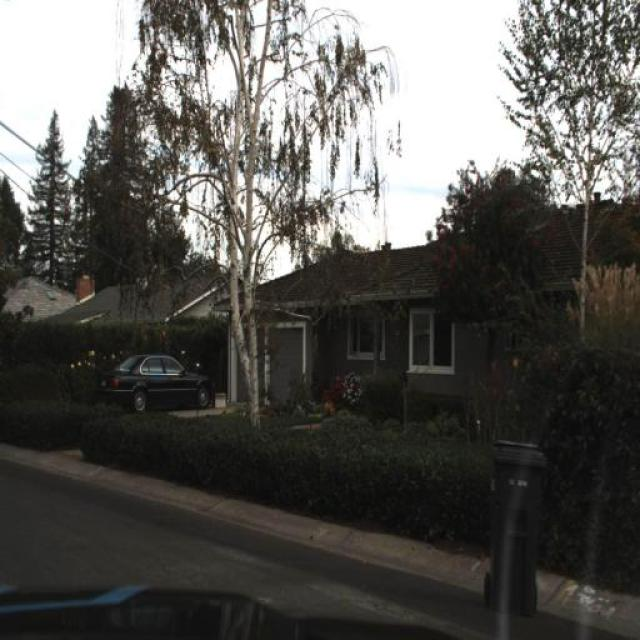car: (96, 349, 216, 415)
